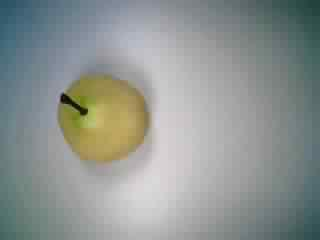pear: (46, 64, 156, 170)
